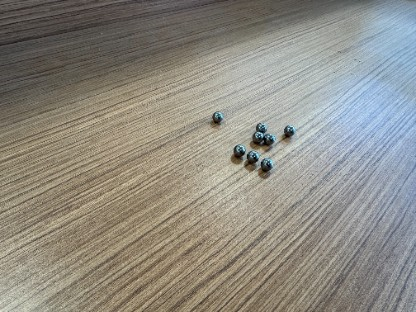ironball: (246, 150, 259, 163), (233, 144, 245, 157), (260, 158, 273, 170), (263, 133, 275, 145), (252, 131, 264, 143), (255, 122, 267, 133), (212, 111, 223, 122), (284, 125, 295, 136)
